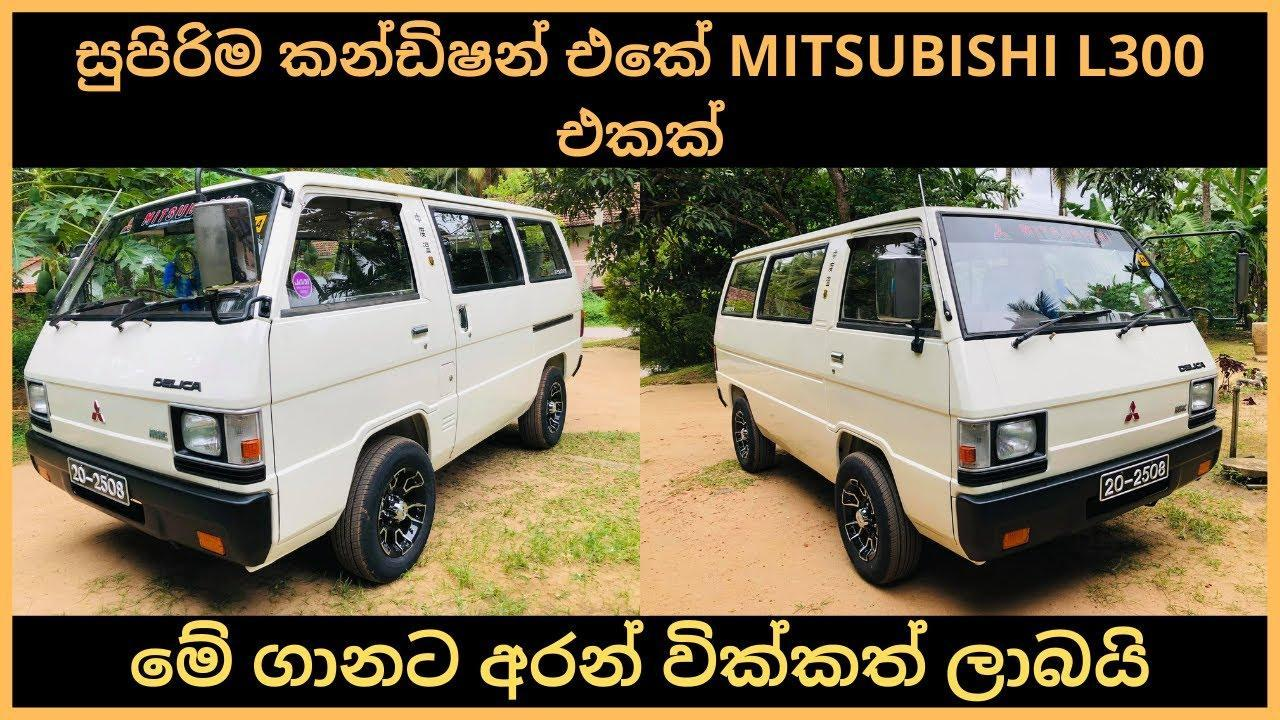car: (30, 171, 590, 585), (706, 201, 1221, 601)
